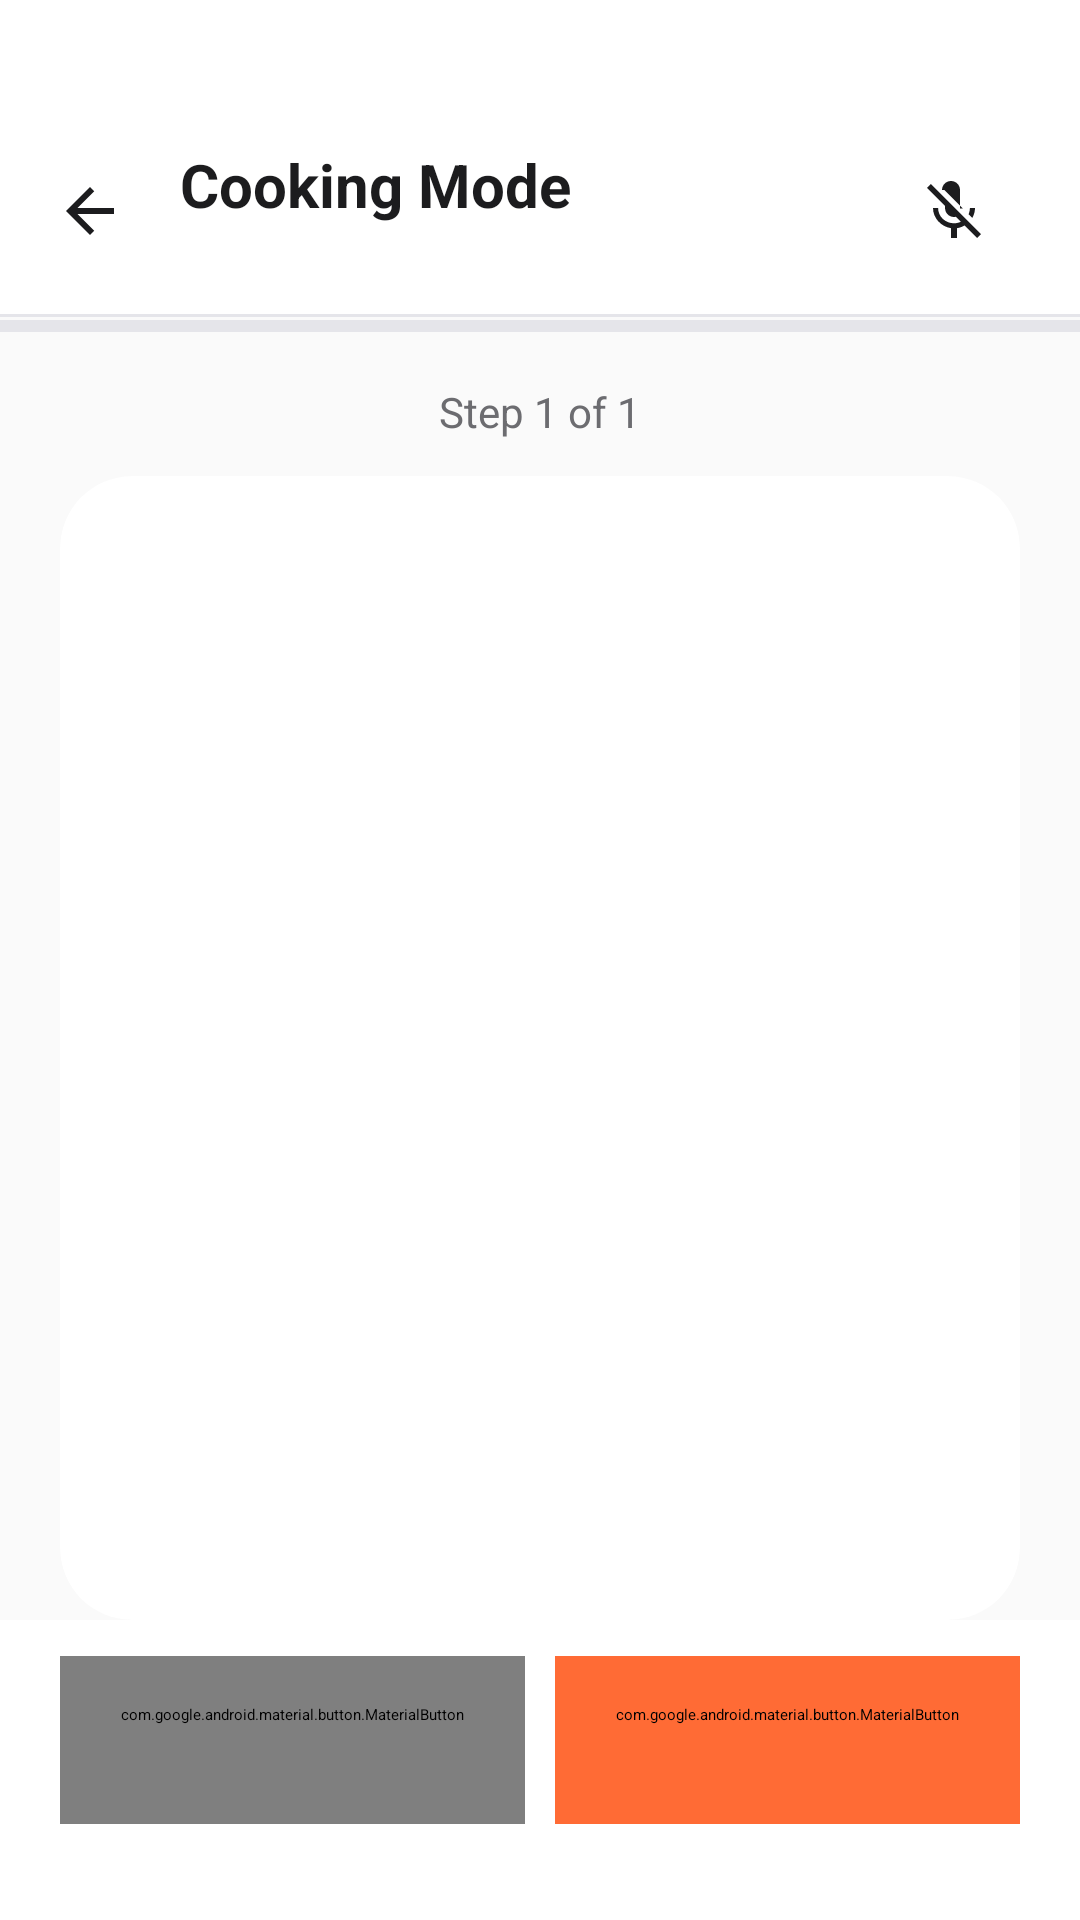

Named icons in this screenshot (1080px x 1920px) and their centers, [x,y]:
Back: [90,211]
mic off: [954,209]
